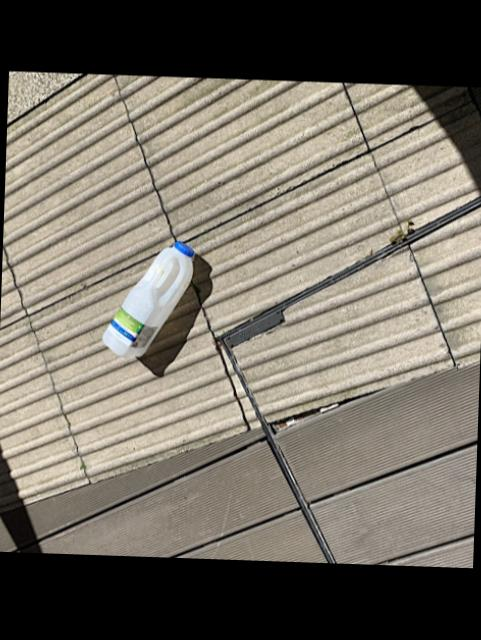plastic: (103, 244, 193, 360)
